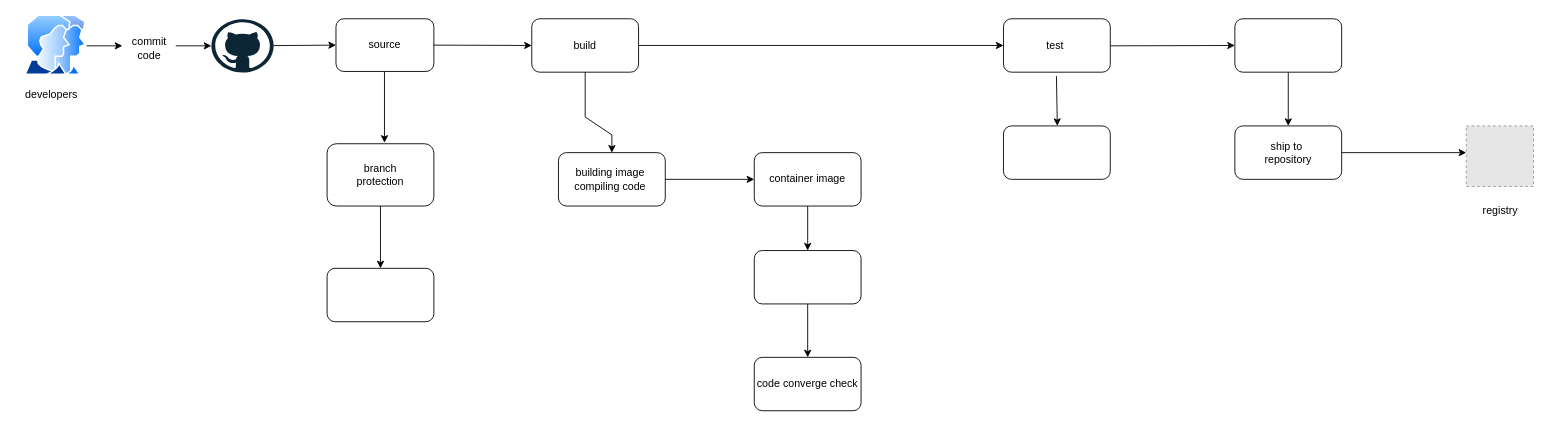
Image size: 1549x427. Some labels were removed from this diagram. Grey dashed boxes stand in for pictures. The shapes that lost their labels are listed below. From the top down, each one's box as (x1, y1, x2, y2) in pixels, then its label:
(1234, 18, 1342, 72): release
(1003, 125, 1110, 179): integration test
(326, 267, 434, 322): linting
(753, 250, 861, 304): unit test
